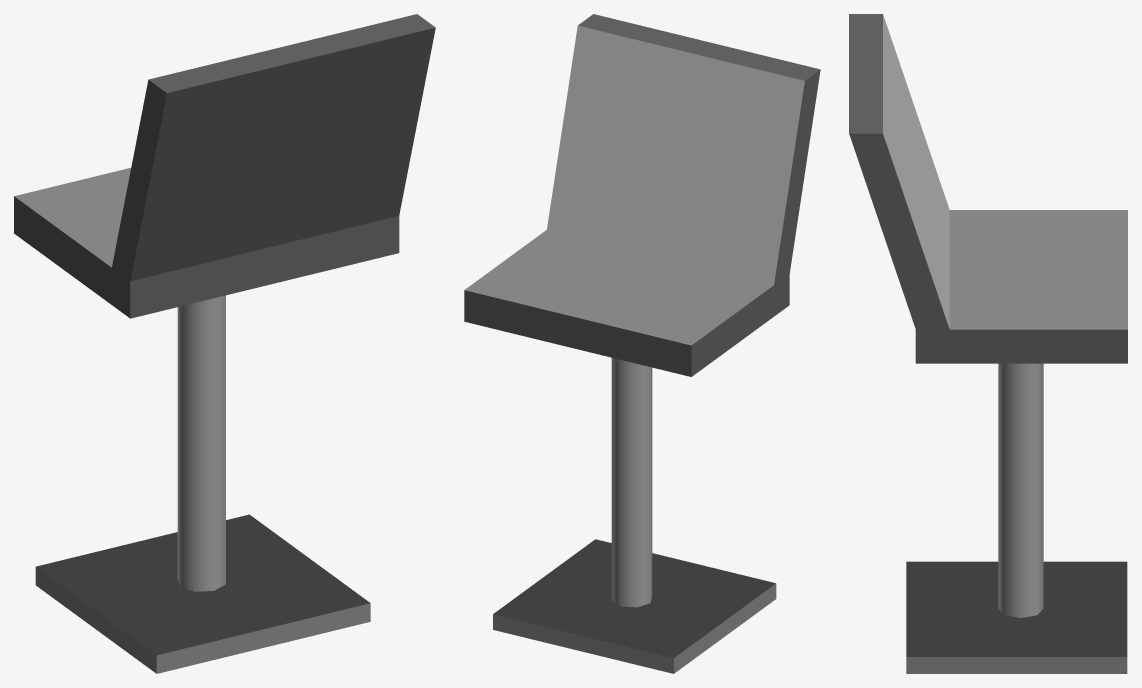
The model's file is Kitchen_Bar_Chair2_Gray.fbx.
The picture shows the model from 3 angles, left to right: view 1: azimuth 30°, elevation 25°; view 2: azimuth 150°, elevation 25°; view 3: azimuth 270°, elevation 25°; orthographic projection. The views are drawn at different scales.
Parts seen in each view (by area): view 1: Kitchen_Bar_Chair2_Gray; view 2: Kitchen_Bar_Chair2_Gray; view 3: Kitchen_Bar_Chair2_Gray.
Part boxes in pixels (<box>): Kitchen_Bar_Chair2_Gray: <box>14,14,435,673</box>; Kitchen_Bar_Chair2_Gray: <box>464,14,820,673</box>; Kitchen_Bar_Chair2_Gray: <box>849,14,1127,673</box>.
Bounding box in the file's own units: 41.57 × 89.97 × 40.94.
